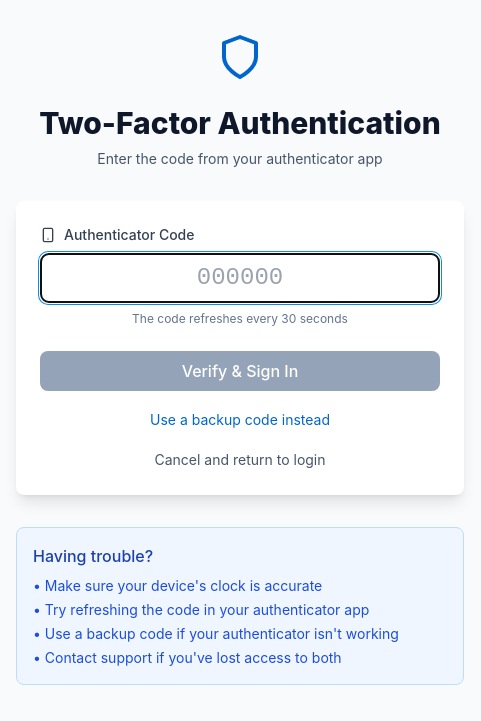
it: TwoFactorVerification › Backup Code Input › switches to backup code input mode
Step 1. Click the button "Use a backup code instead" → point(240, 420), box [150,410,330,430]
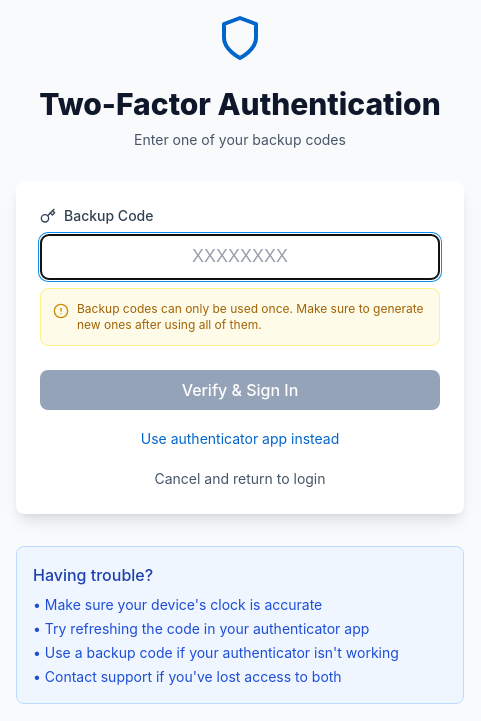
Check: the text "Enter one of your backup codes" is shown, box [134,131,346,148]
Check: the field with placeholder "XXXXXXXX" is shown, box [40,234,440,280]
